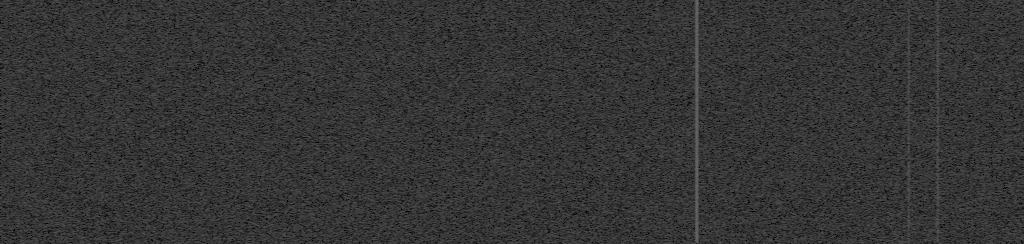wv_am: (935, 0, 940, 243)
wv_cw: (694, 0, 700, 243), (907, 0, 911, 243)
